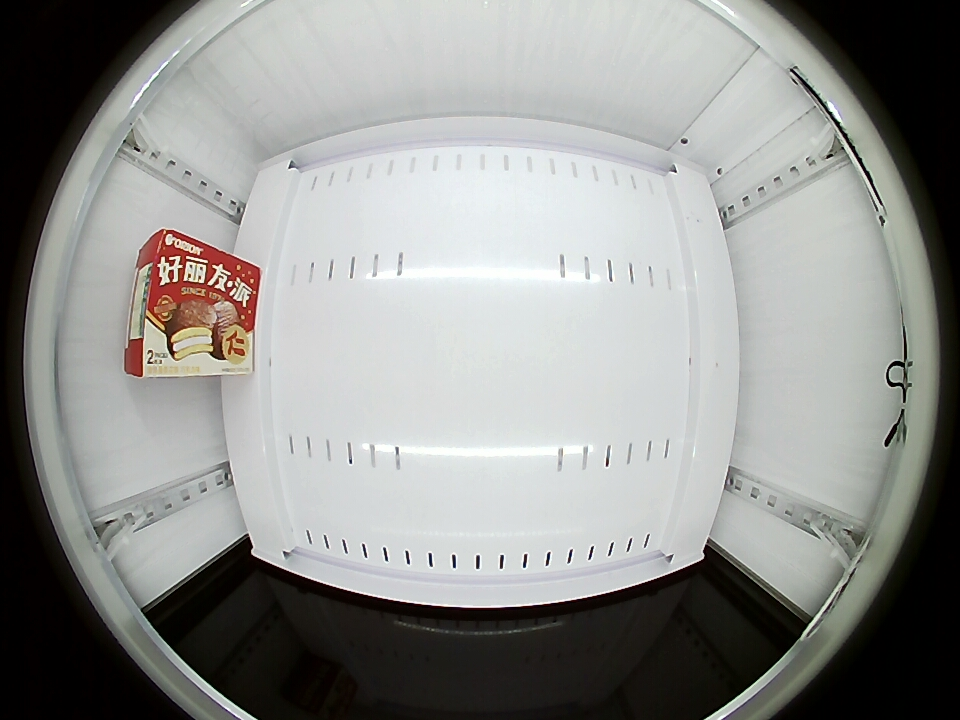haoliyou: (126, 229, 224, 377)
